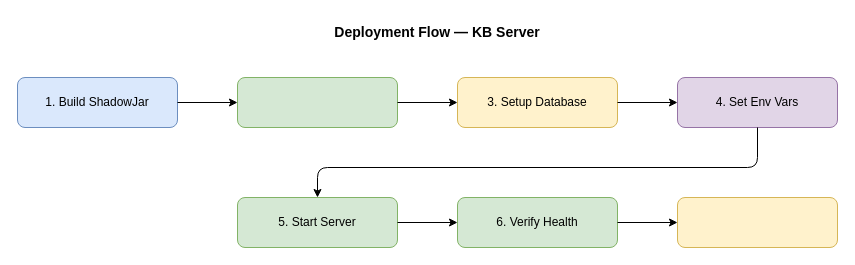
Some shapes in this 855 by 265 pixel diagram are drawn without their labels. Here are the shapes that lost their labels. From the top down, the centre of each, then its label:
At pixel 317 102: "2. Configure YAML".
At pixel 757 222: "7. Configure Orchestrator".
